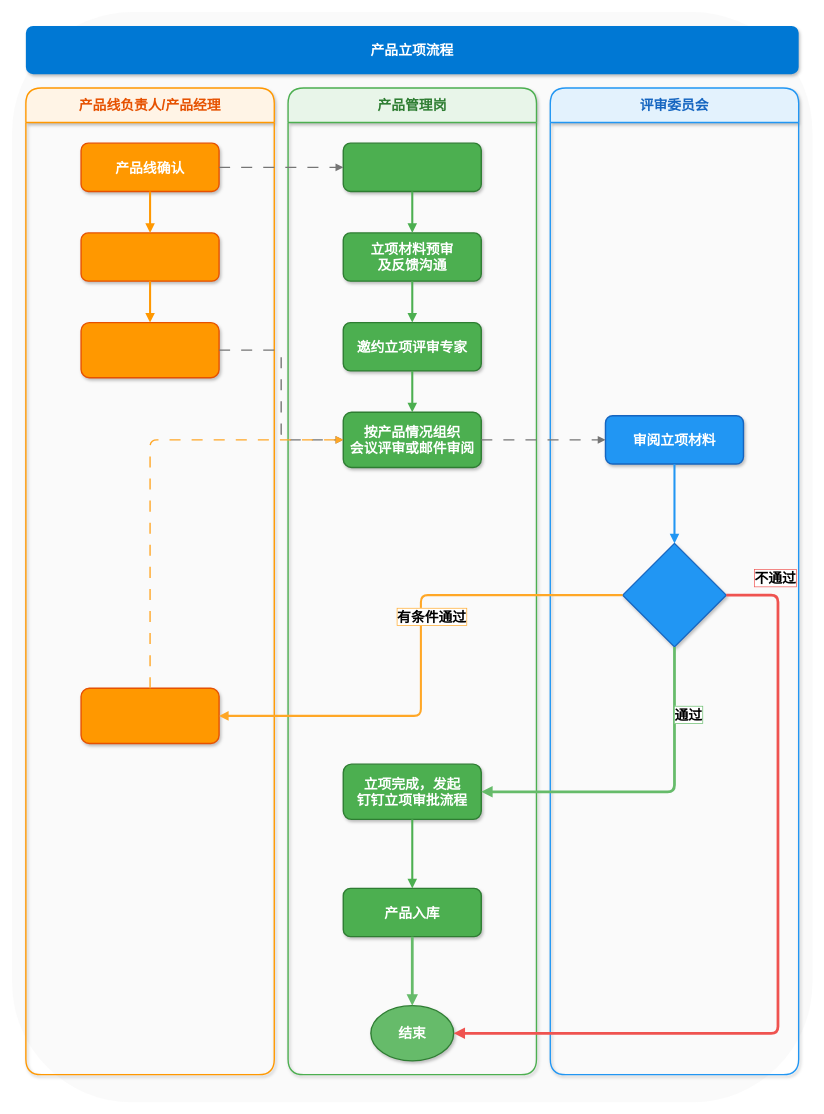
This 824x1114 diagram has some shape labels left out. Here are the shapes that lost their labels. From the top down, the centre of each, then its label:
the point at 412,168: 接受并管理立项需求
the point at 150,257: 需求调研路径规划
the point at 150,351: 撰写并邮件提交 《产品立项说明书》
the point at 675,596: 审批
the point at 150,716: 按评审意见修订方案 后重新评审
